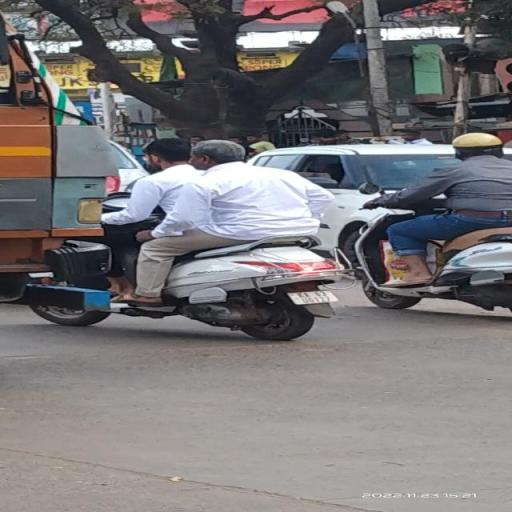bike: (100, 132, 354, 343)
numberplate: (289, 284, 337, 308)
withouthelmet: (186, 131, 240, 171), (141, 134, 192, 170)
